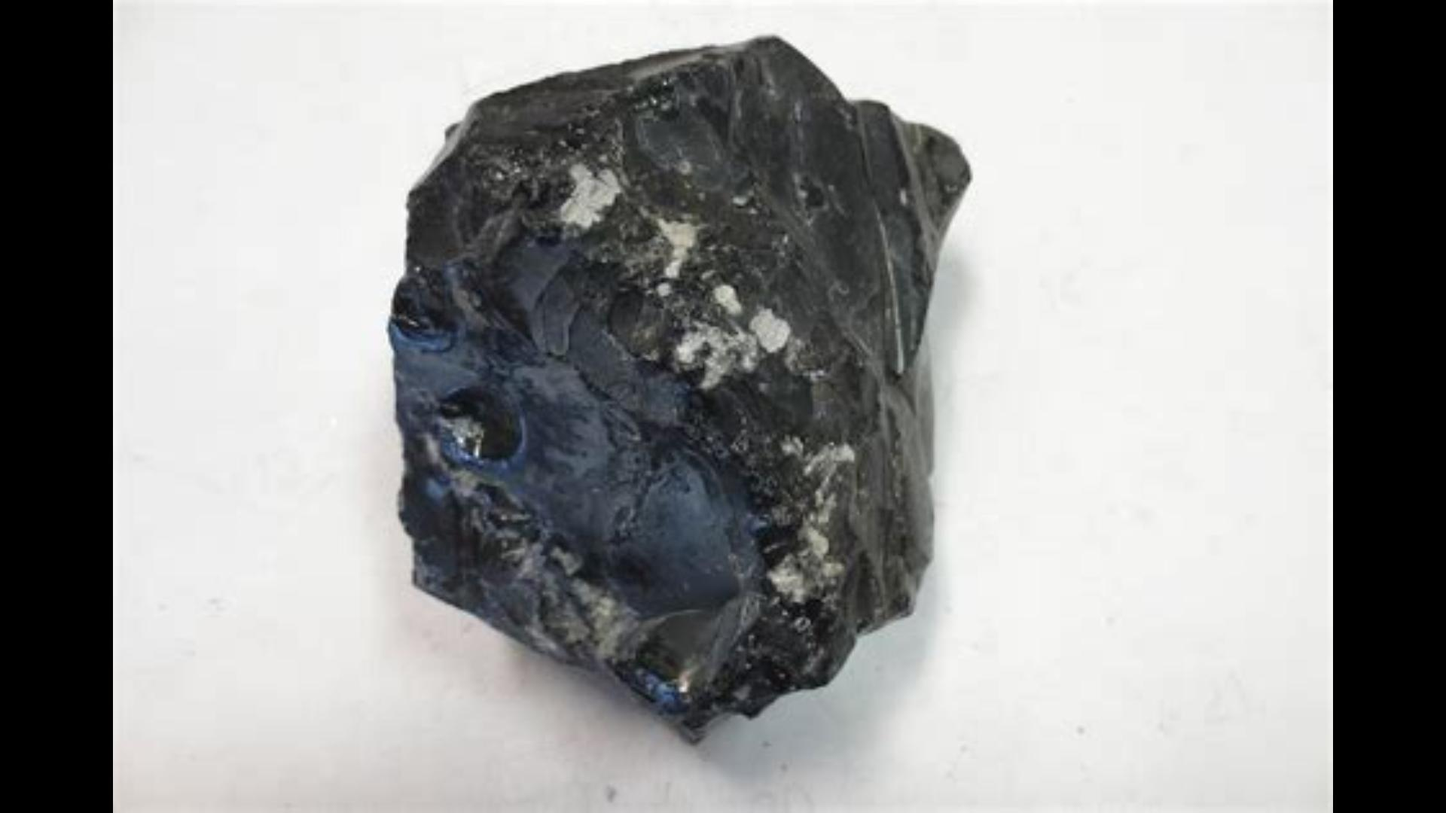rock: (388, 39, 968, 733)
